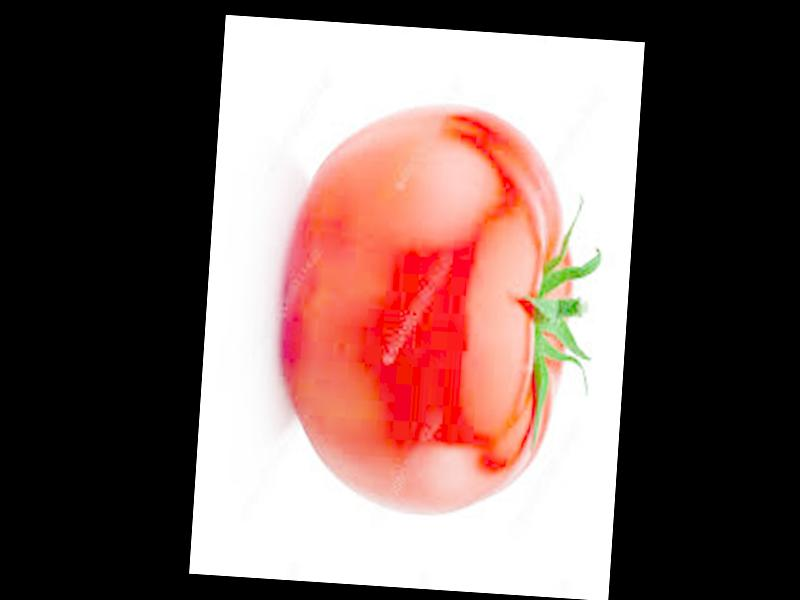Tomato: (278, 95, 583, 523)
